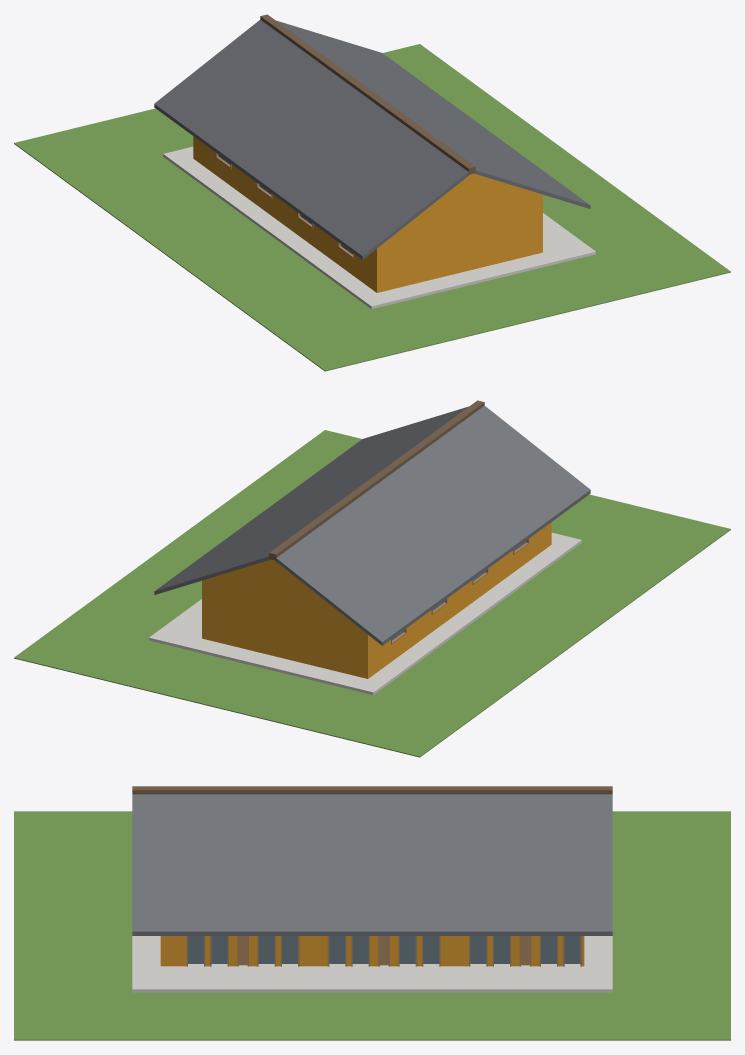
The model's file is salones3.glb.
3 views of the same model, one above another, from view 1: azimuth 30°, elevation 25°; view 2: azimuth 150°, elevation 25°; view 3: azimuth 270°, elevation 25° (orthographic). The views are drawn at different scales.
Visible parts, largest first — view 1: Salones 3A,B y C; view 2: Salones 3A,B y C; view 3: Salones 3A,B y C.
Boxes of the visible parts, x1,y1,x2,y2 form: Salones 3A,B y C: [14, 14, 730, 371]; Salones 3A,B y C: [14, 400, 730, 757]; Salones 3A,B y C: [14, 786, 730, 1040].
Bounding box in the file's own units: 22.83 × 6.33 × 30.3.
